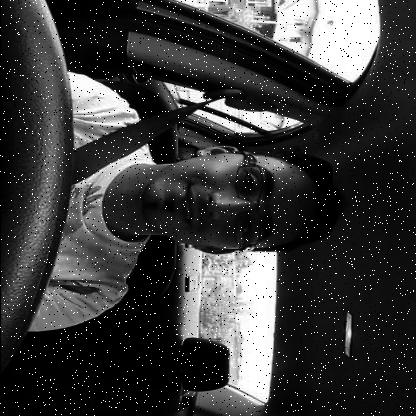seatbelt: (0, 87, 362, 257)
